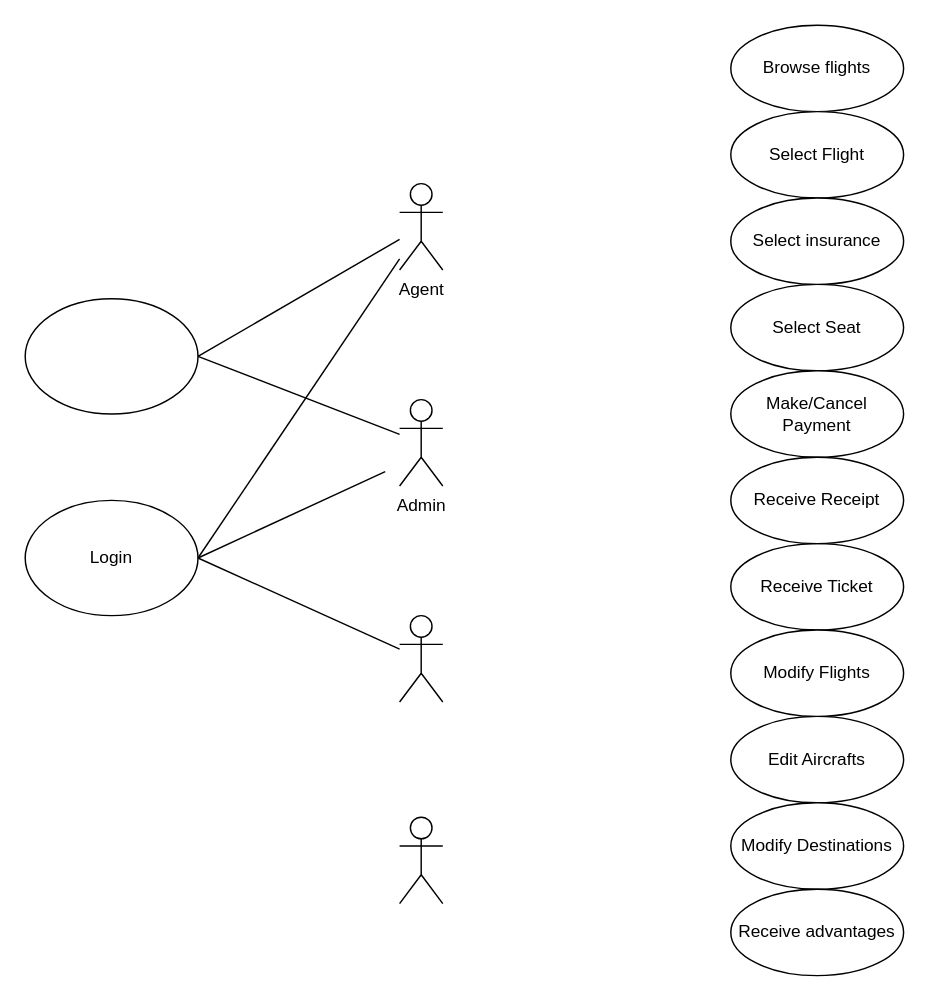
Some shapes in this 929 by 1001 pixel diagram are drawn without their labels. Each missing label, with the centre of its shape:
"Browse Users" belongs at (111,355).
"Registered User" belongs at (420,658).
"Unregistered User" belongs at (420,860).
